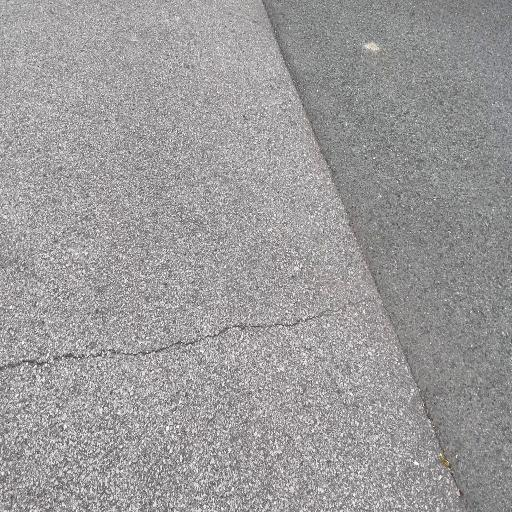Melintang: (3, 288, 388, 380)
Sambungan: (264, 0, 511, 511)
